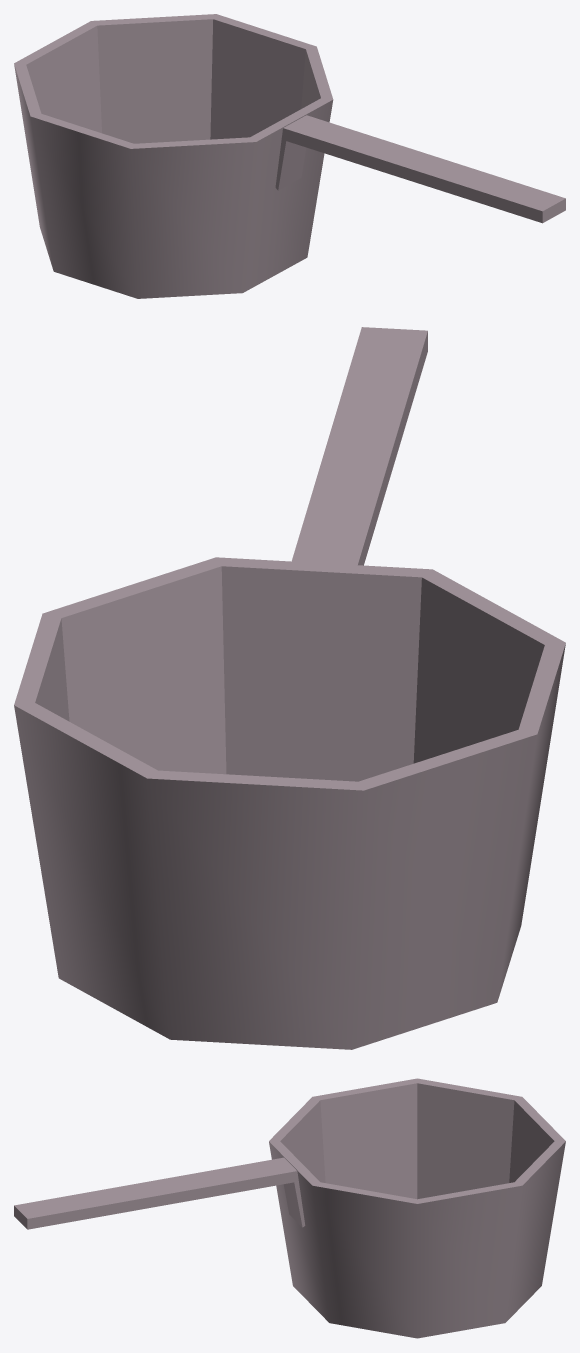
Rendered from SM_Pan_02.fbx.
3 renders of one model, top to bottom at view 1: azimuth 30°, elevation 25°; view 2: azimuth 150°, elevation 25°; view 3: azimuth 270°, elevation 25°, orthographic. The views are drawn at different scales.
Visible parts, largest first — view 1: SM_Pan_02; view 2: SM_Pan_02; view 3: SM_Pan_02.
Boxes of the visible parts, x1,y1,x2,y2 form: SM_Pan_02: [14, 14, 565, 298]; SM_Pan_02: [14, 327, 565, 1049]; SM_Pan_02: [14, 1078, 565, 1338].
Size of the model in its own units: 27.5 by 13.28 by 45.91.
Materials: 1 (1 with a texture image).
